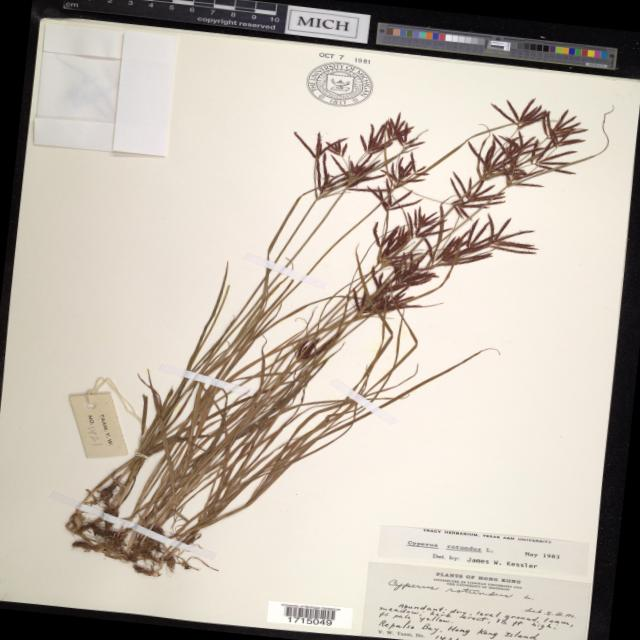cyperus: (273, 58, 594, 336), (339, 76, 594, 338), (287, 104, 439, 219)
